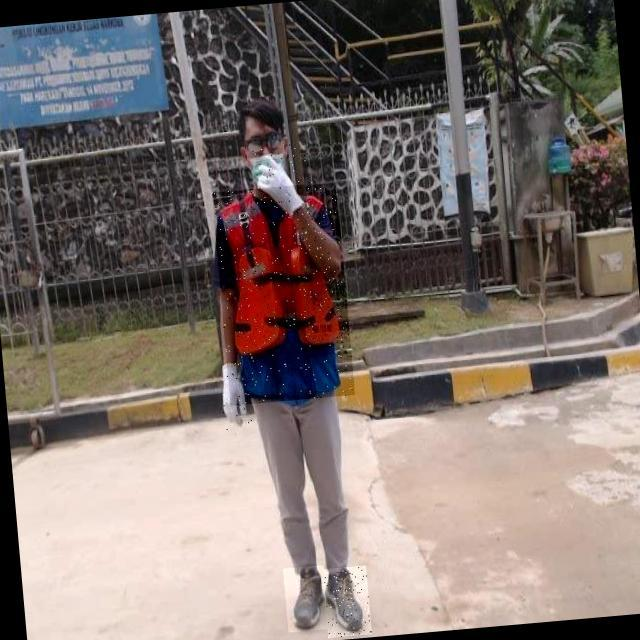Safety Boot: (322, 565, 372, 638), (283, 565, 329, 632)
Safety Vest: (212, 181, 355, 405)
